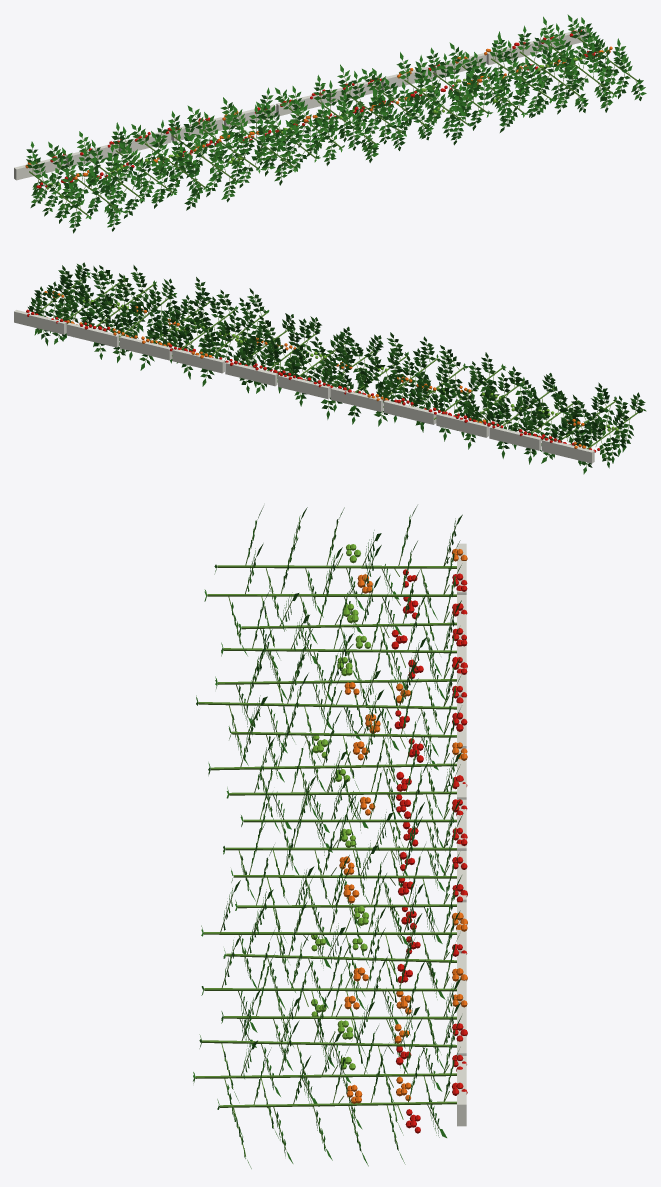
File: row18.obj
3 renders of one model, top to bottom at view 1: azimuth 30°, elevation 25°; view 2: azimuth 150°, elevation 25°; view 3: azimuth 270°, elevation 25°, orthographic. The views are drawn at different scales.
Visible parts, largest first — view 1: row18; view 2: row18; view 3: row18.
Boxes of the visible parts, <box> form: row18: <box>14,14,646,233</box>; row18: <box>14,262,646,474</box>; row18: <box>193,505,467,1168</box>.
Size of the model in its own units: 11.08 by 1.19 by 2.27.
